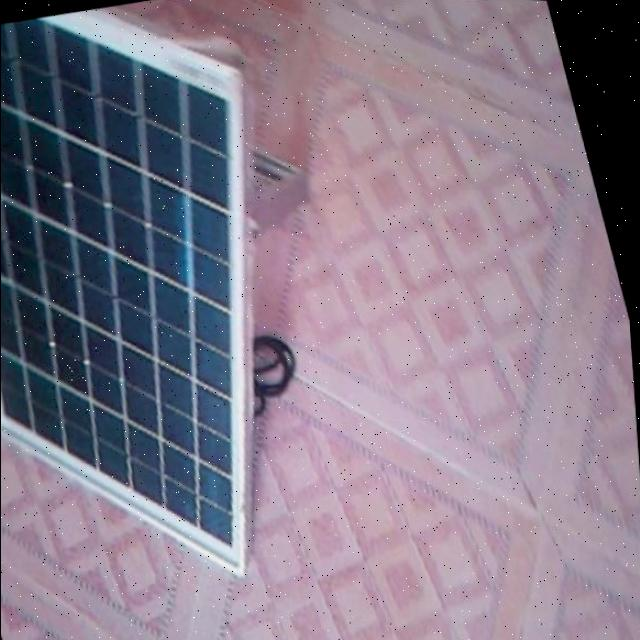Normal Solar Panel: (0, 0, 368, 618)
